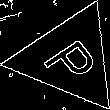P_NE: (35, 29, 103, 88)
